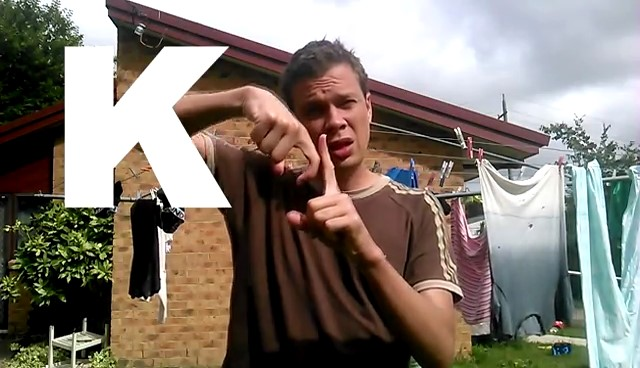K: (239, 82, 368, 259)
